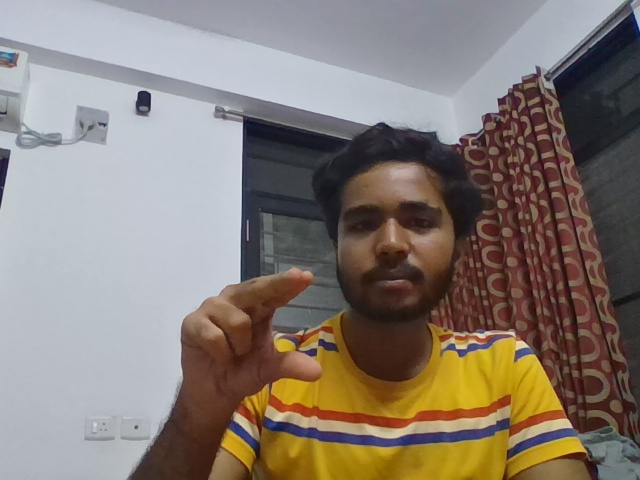No: (156, 259, 329, 411)
